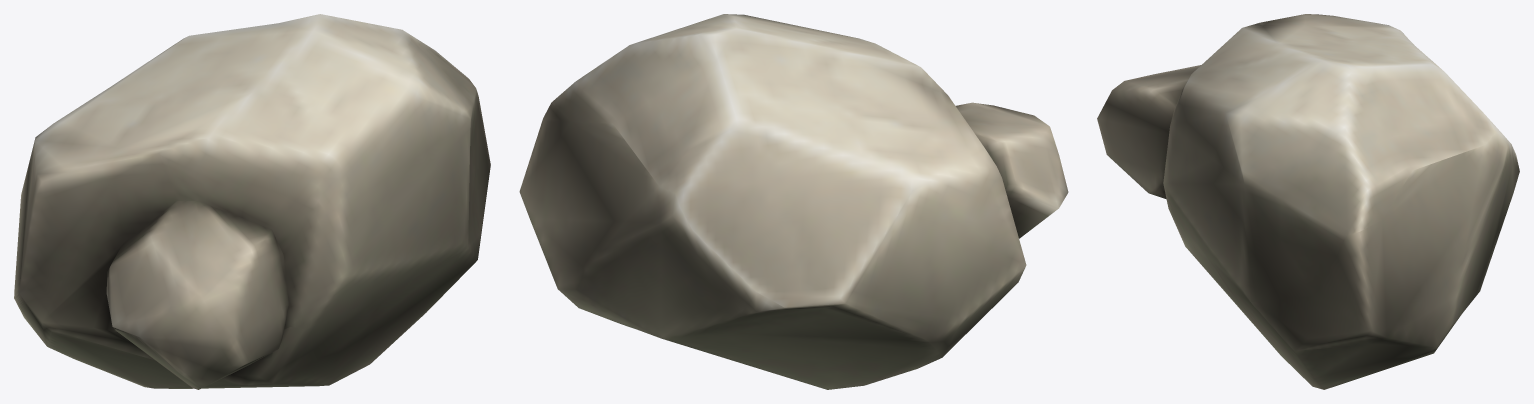
File: rock_01.glb
3 views of the same model, side by side, from view 1: azimuth 30°, elevation 25°; view 2: azimuth 150°, elevation 25°; view 3: azimuth 270°, elevation 25° (orthographic). The views are drawn at different scales.
Visible parts, largest first — view 1: rock; view 2: rock; view 3: rock.
Part boxes in pixels (<box>): rock: <box>14,14,490,389</box>; rock: <box>519,14,1068,389</box>; rock: <box>1097,14,1519,389</box>.
Bounding box in the file's own units: 1.4 × 0.9095 × 1.14.
1 material, 1 textured.
